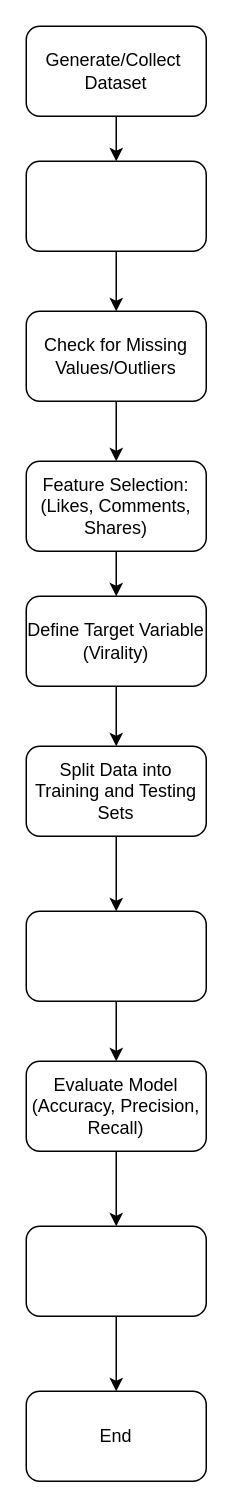
Some shapes in this 233 by 1508 pixel diagram are drawn without their labels. Here are the shapes that lost their labels. From the top down, the box of each, then its label:
(25, 160, 206, 251): Load and Prepare Data
(25, 910, 206, 1001): Train Decision Tree Classifier
(25, 1225, 206, 1316): Predict Post Virality on New Data
